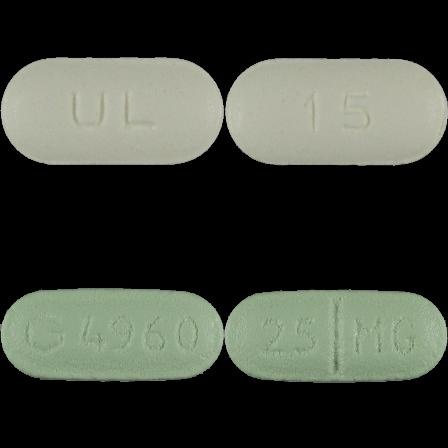54868-5651: (0, 0, 224, 224)
